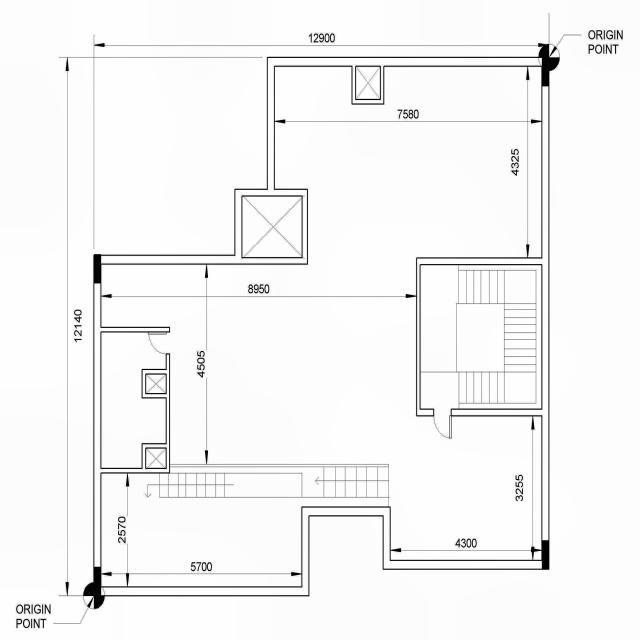Column: (94, 253, 102, 285), (94, 567, 102, 597), (542, 540, 550, 570), (542, 56, 550, 86)
Door: (431, 406, 454, 444), (146, 331, 170, 356)
Staircase: (416, 259, 546, 413), (146, 464, 390, 504)
